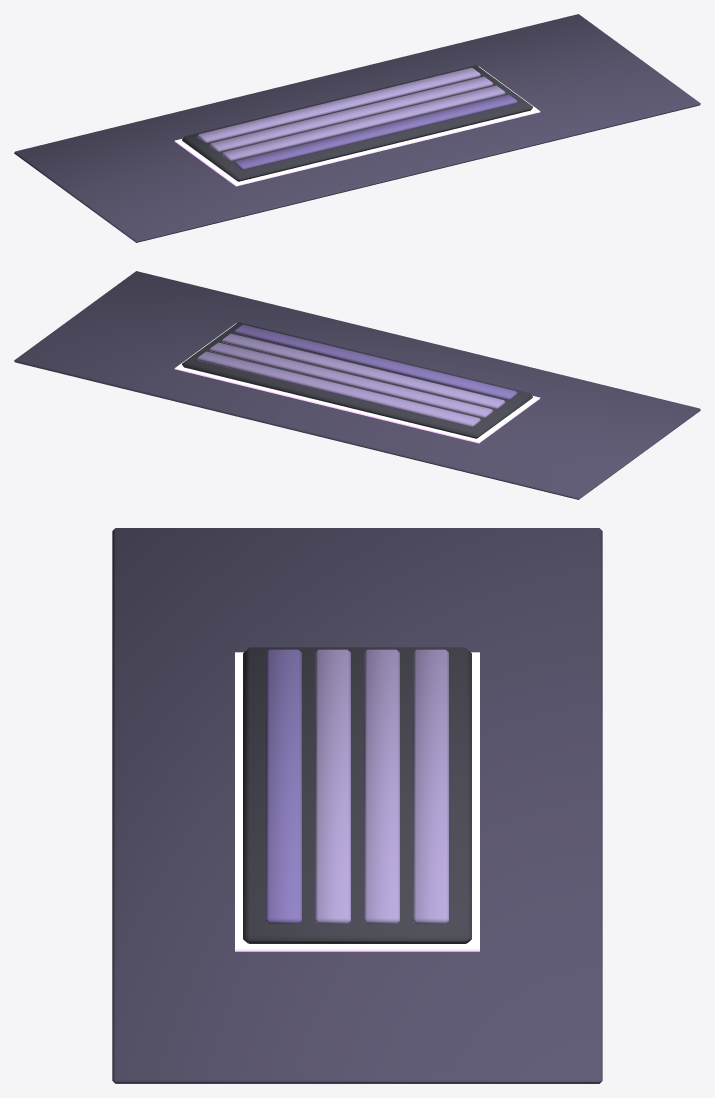
Rendered from junior_keyboard_mat.glb.
3 views of the same model, one above another, from view 1: azimuth 30°, elevation 25°; view 2: azimuth 150°, elevation 25°; view 3: azimuth 270°, elevation 25° (orthographic). The views are drawn at different scales.
Visible parts, largest first — view 1: junior_keyboard_mat__SlateLavDark, junior_keyboard_mat__ErgoLavender, junior_keyboard_mat__DarkGrey, junior_keyboard_mat__ErgoLavDark, junior_keyboard_mat__KeyGlow; view 2: junior_keyboard_mat__SlateLavDark, junior_keyboard_mat__ErgoLavender, junior_keyboard_mat__DarkGrey, junior_keyboard_mat__ErgoLavDark, junior_keyboard_mat__KeyGlow; view 3: junior_keyboard_mat__SlateLavDark, junior_keyboard_mat__ErgoLavender, junior_keyboard_mat__DarkGrey, junior_keyboard_mat__ErgoLavDark, junior_keyboard_mat__KeyGlow.
Boxes of the visible parts, x1,y1,x2,y2 form: junior_keyboard_mat__SlateLavDark: (14,14,700,242); junior_keyboard_mat__ErgoLavender: (197,67,505,161); junior_keyboard_mat__DarkGrey: (182,65,532,181); junior_keyboard_mat__ErgoLavDark: (234,94,517,170); junior_keyboard_mat__KeyGlow: (174,66,540,186); junior_keyboard_mat__SlateLavDark: (14,271,700,499); junior_keyboard_mat__ErgoLavender: (197,333,505,427); junior_keyboard_mat__DarkGrey: (182,322,532,438); junior_keyboard_mat__ErgoLavDark: (234,324,517,400); junior_keyboard_mat__KeyGlow: (174,323,540,443); junior_keyboard_mat__SlateLavDark: (112,528,602,1083); junior_keyboard_mat__ErgoLavender: (315,649,448,923); junior_keyboard_mat__DarkGrey: (243,647,471,943); junior_keyboard_mat__ErgoLavDark: (266,649,301,923); junior_keyboard_mat__KeyGlow: (235,652,479,951).
Size of the model in its own units: 0.8 by 0.0175 by 0.3.
